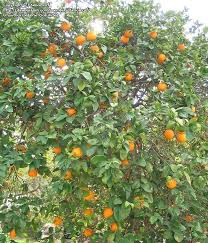orange: (164, 128, 175, 140), (164, 178, 176, 189)
